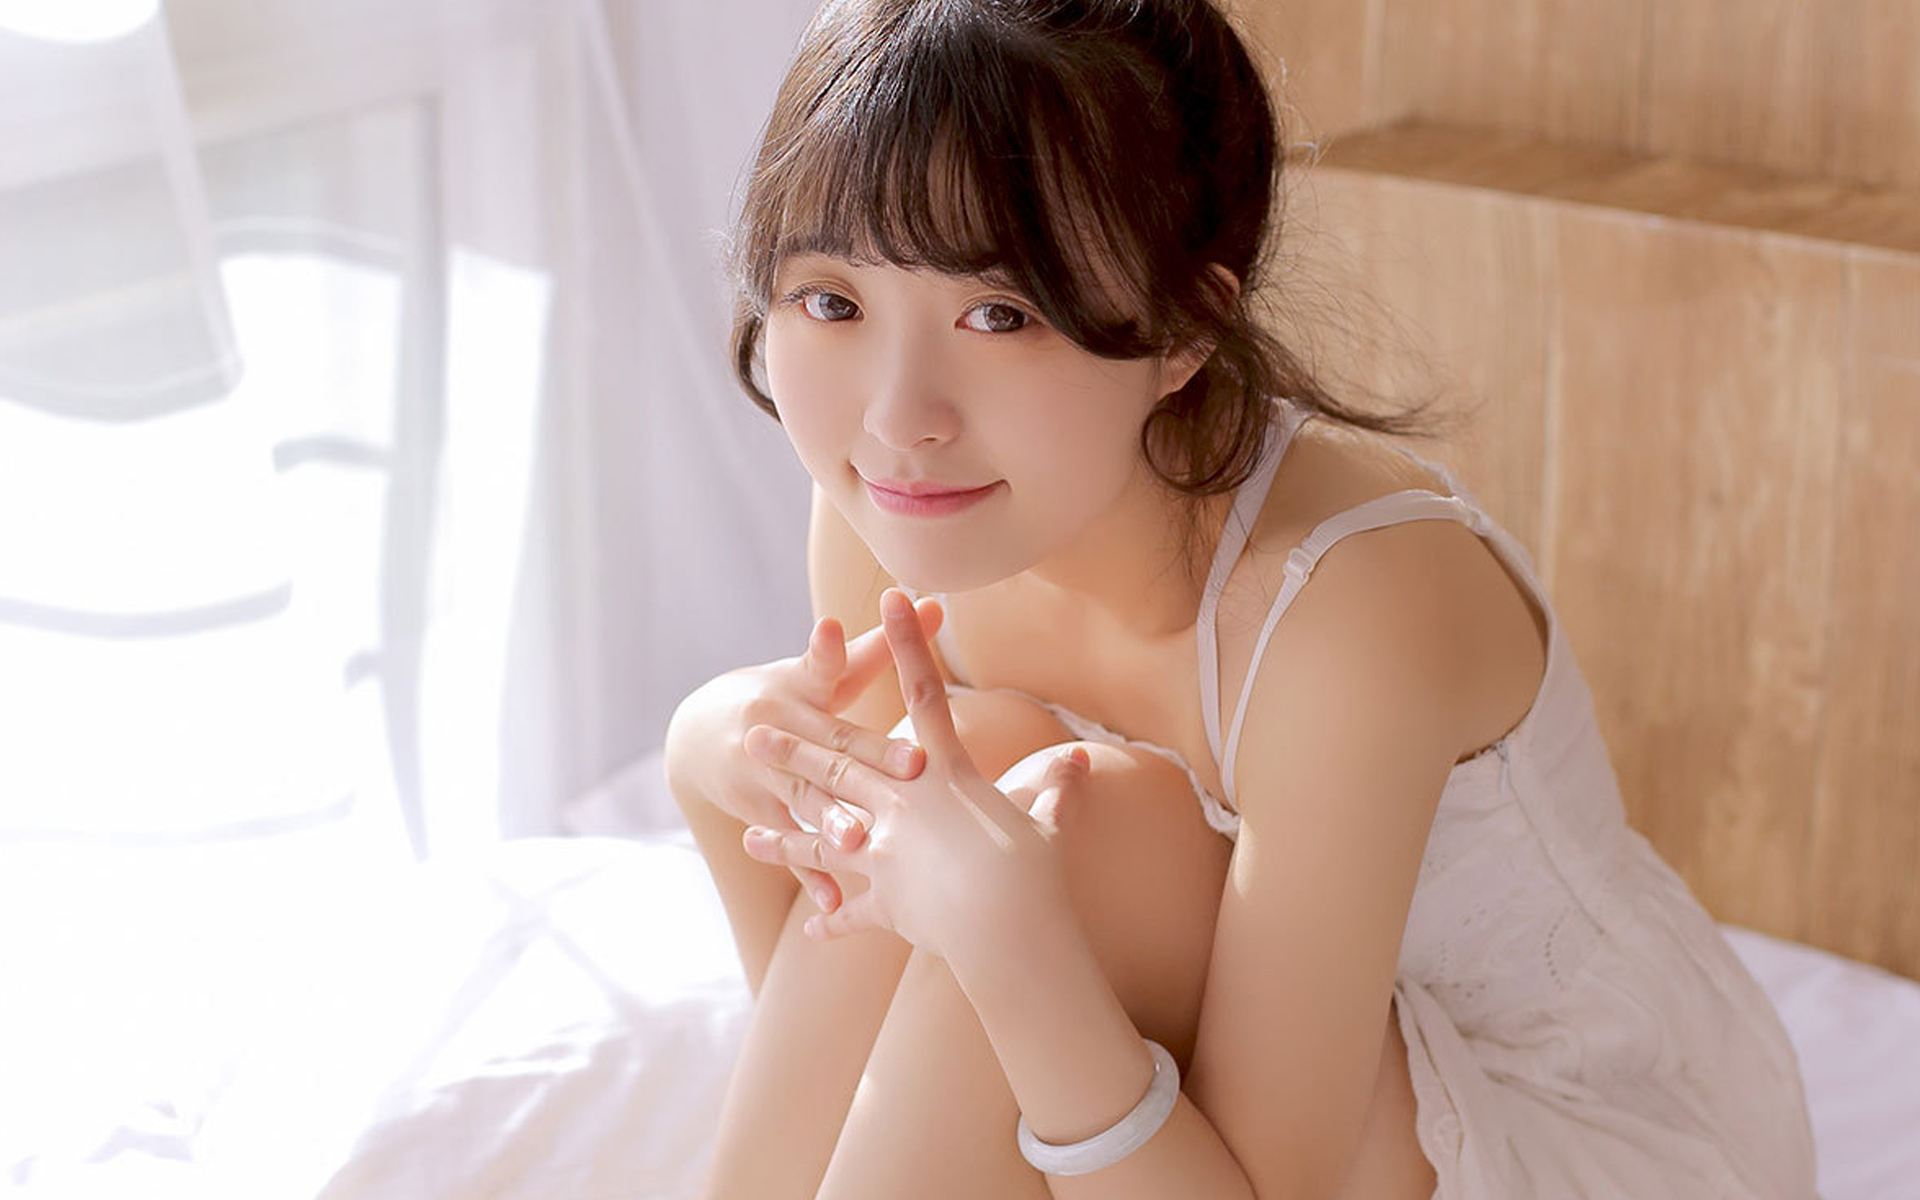person: (545, 31, 1650, 1088)
